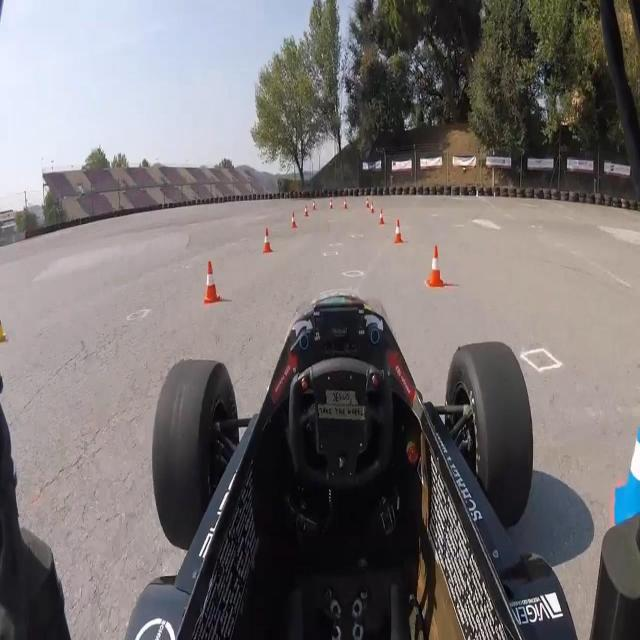blue_cone: (611, 417, 640, 537)
orange_cone: (202, 259, 223, 304), (426, 243, 446, 290), (263, 228, 273, 253), (395, 221, 402, 245), (290, 212, 298, 230), (378, 207, 384, 224), (303, 205, 310, 218), (328, 199, 334, 209), (370, 201, 374, 214), (343, 199, 348, 209), (365, 198, 369, 208), (312, 201, 316, 210)
